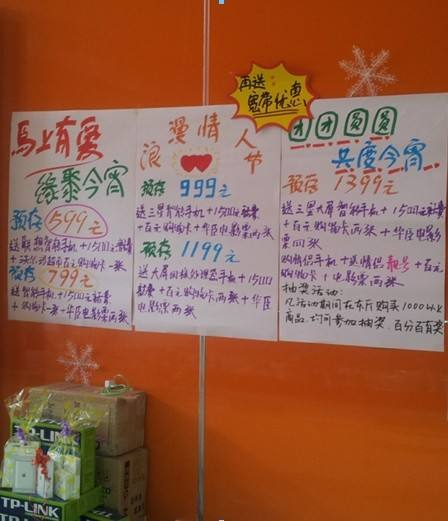bill: (281, 96, 448, 357), (135, 105, 277, 342), (6, 110, 135, 331)
